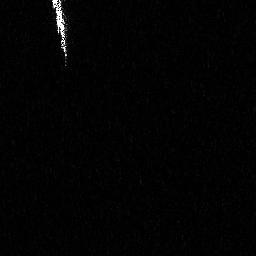ship: (51, 1, 69, 67)
